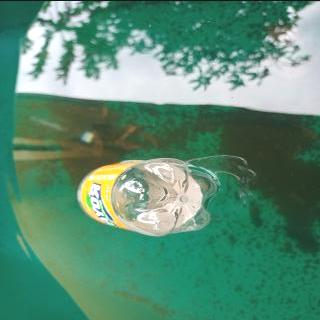bottle: (74, 156, 220, 237)
